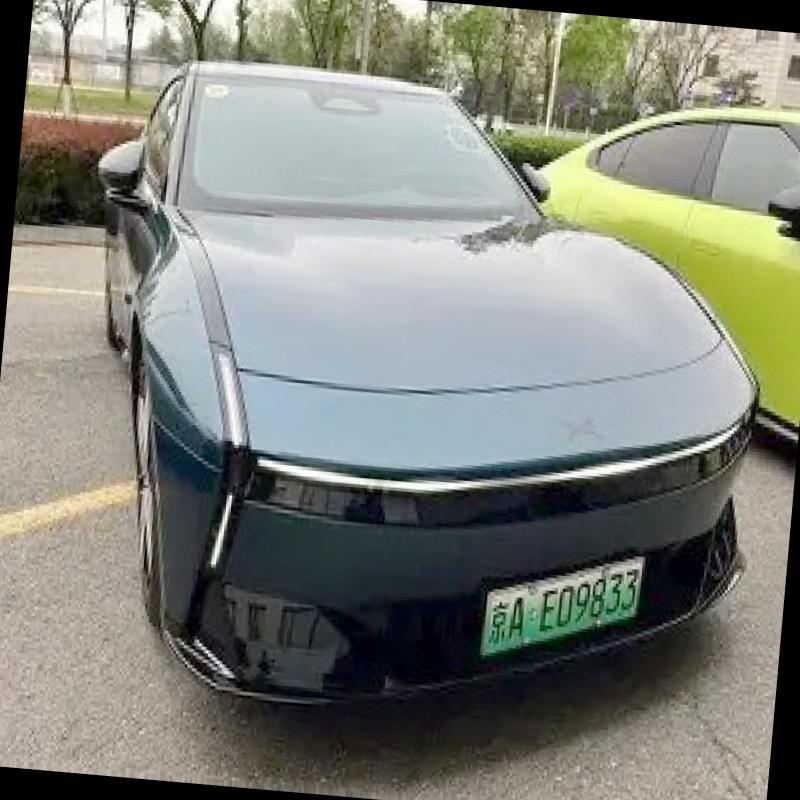license plate on a car: (478, 542, 660, 676)
